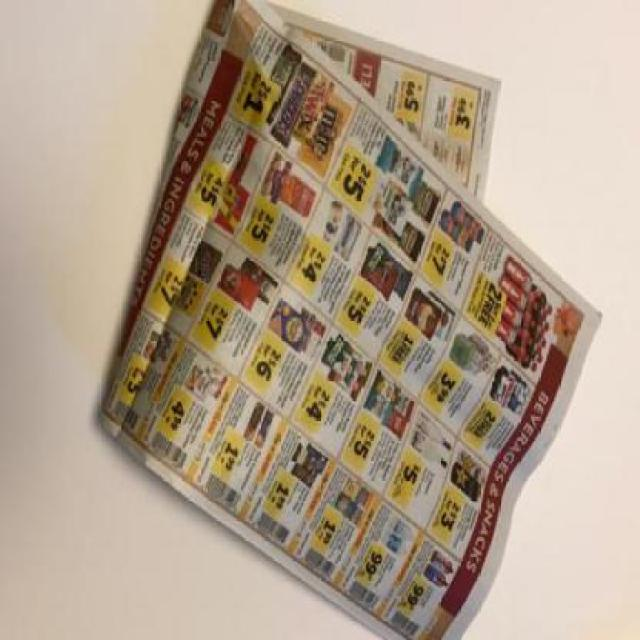PAPER: (100, 1, 608, 638)
